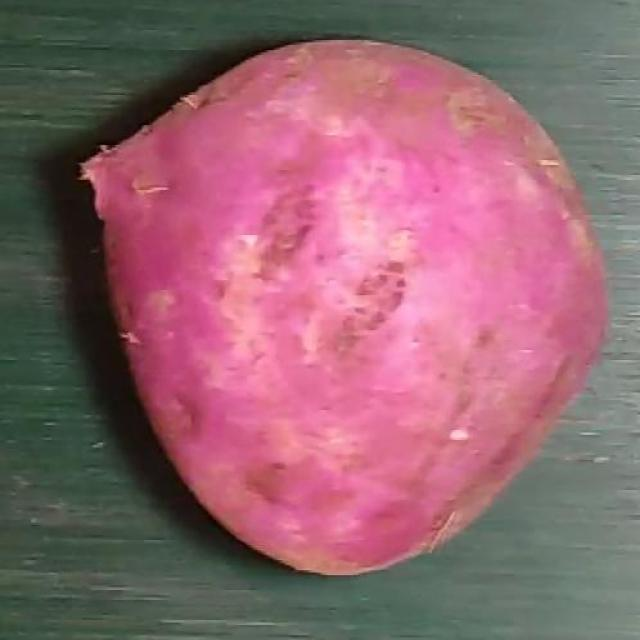Sweet Potato: (77, 40, 609, 579)
